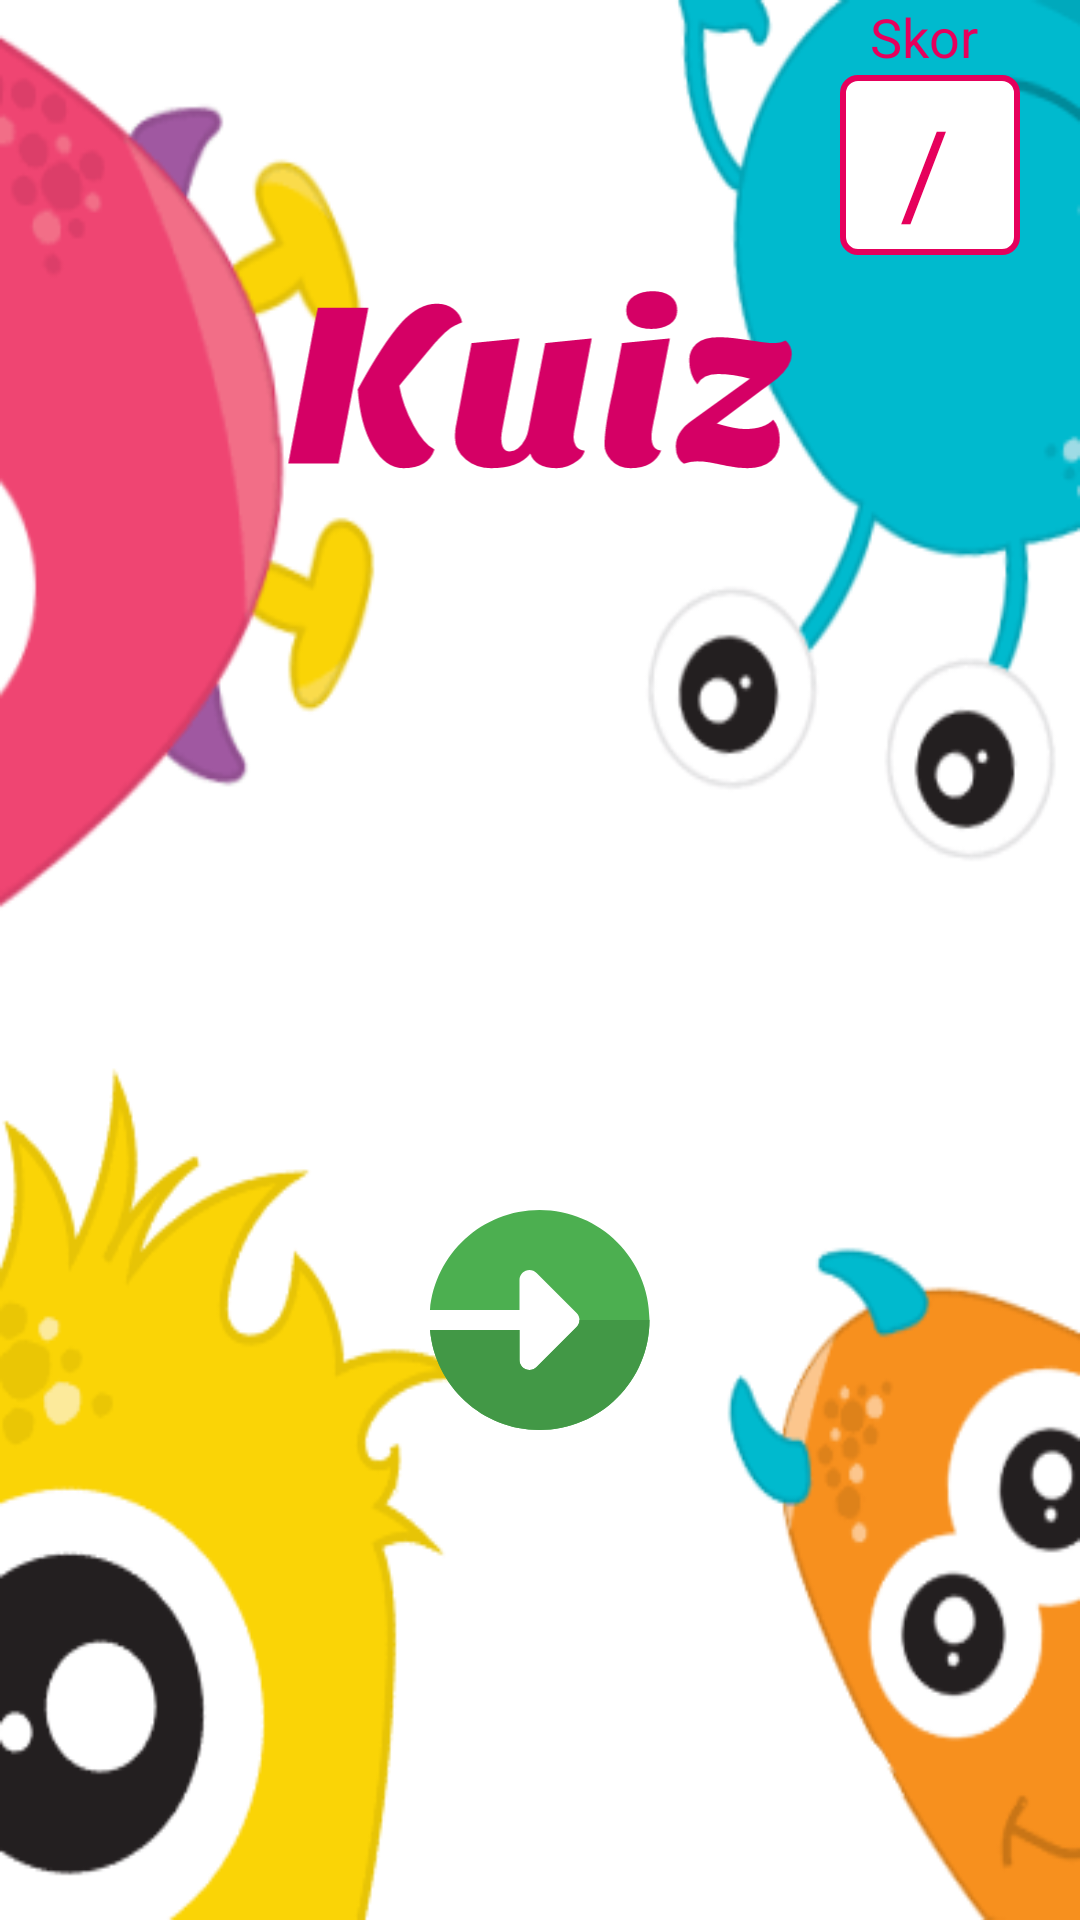

Icon bounding boxes for this 1080px x 1920px phone screenshot, format (x1, y1, x2, y2):
enter: (420, 1210, 650, 1430)
